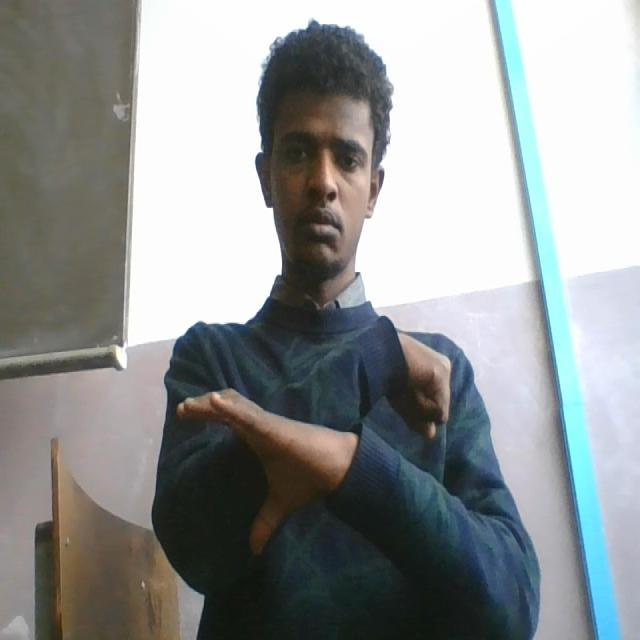hager: (170, 320, 459, 571)
